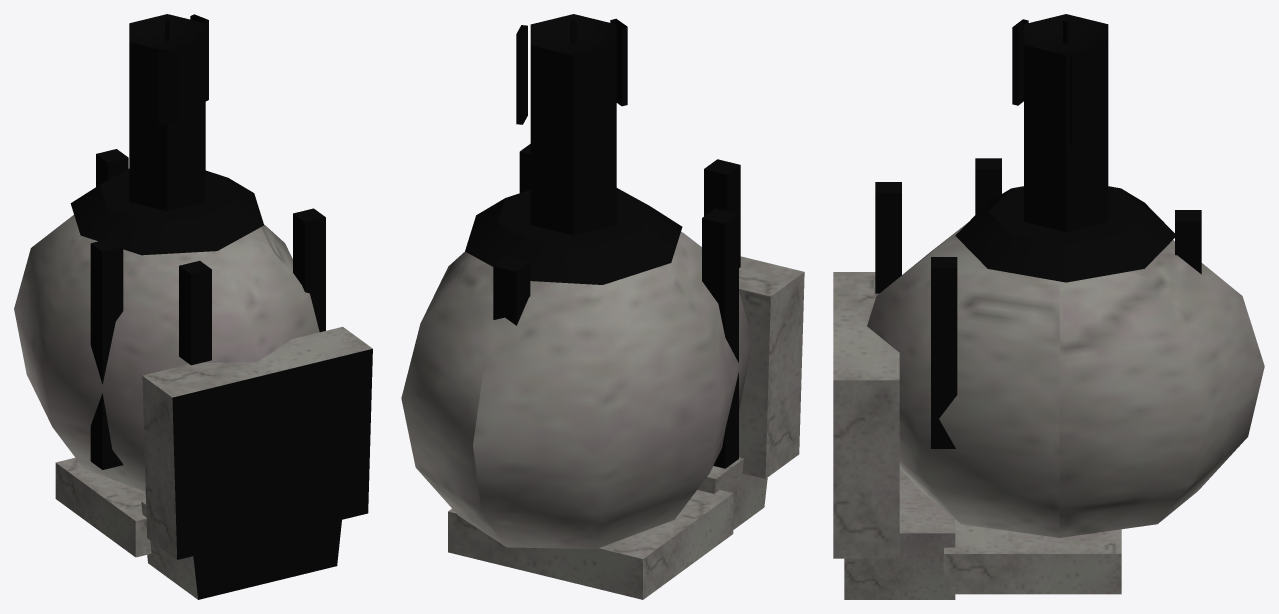
Rendered from candle_skull.fbx.
The picture shows the model from 3 angles, left to right: view 1: azimuth 30°, elevation 25°; view 2: azimuth 150°, elevation 25°; view 3: azimuth 270°, elevation 25°; orthographic projection. The views are drawn at different scales.
Visible parts, largest first — view 1: candle_skull; view 2: candle_skull; view 3: candle_skull.
Part boxes in pixels (box(x1,y1,x2,y2)): candle_skull: box(14, 14, 372, 599); candle_skull: box(401, 14, 804, 599); candle_skull: box(833, 14, 1264, 599).
Size of the model in its own units: 0.148 by 0.2695 by 0.1945.
